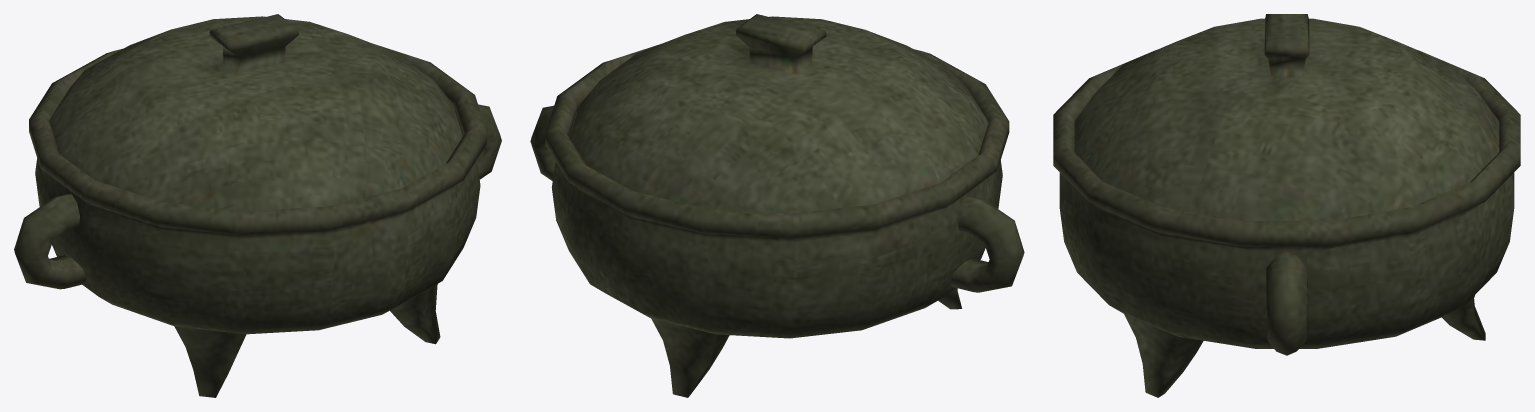
File: lidded_pot.gltf
3 renders of one model, left to right at view 1: azimuth 30°, elevation 25°; view 2: azimuth 150°, elevation 25°; view 3: azimuth 270°, elevation 25°, orthographic. The views are drawn at different scales.
Parts seen in each view (by area): view 1: Pottery_4; view 2: Pottery_4; view 3: Pottery_4.
Part boxes in pixels (x1,y1,x2,y2): Pottery_4: (14,14,501,397); Pottery_4: (530,14,1024,397); Pottery_4: (1053,14,1520,397).
Size of the model in its own units: 0.471 by 0.2736 by 0.3783.
1 material, 1 textured.
